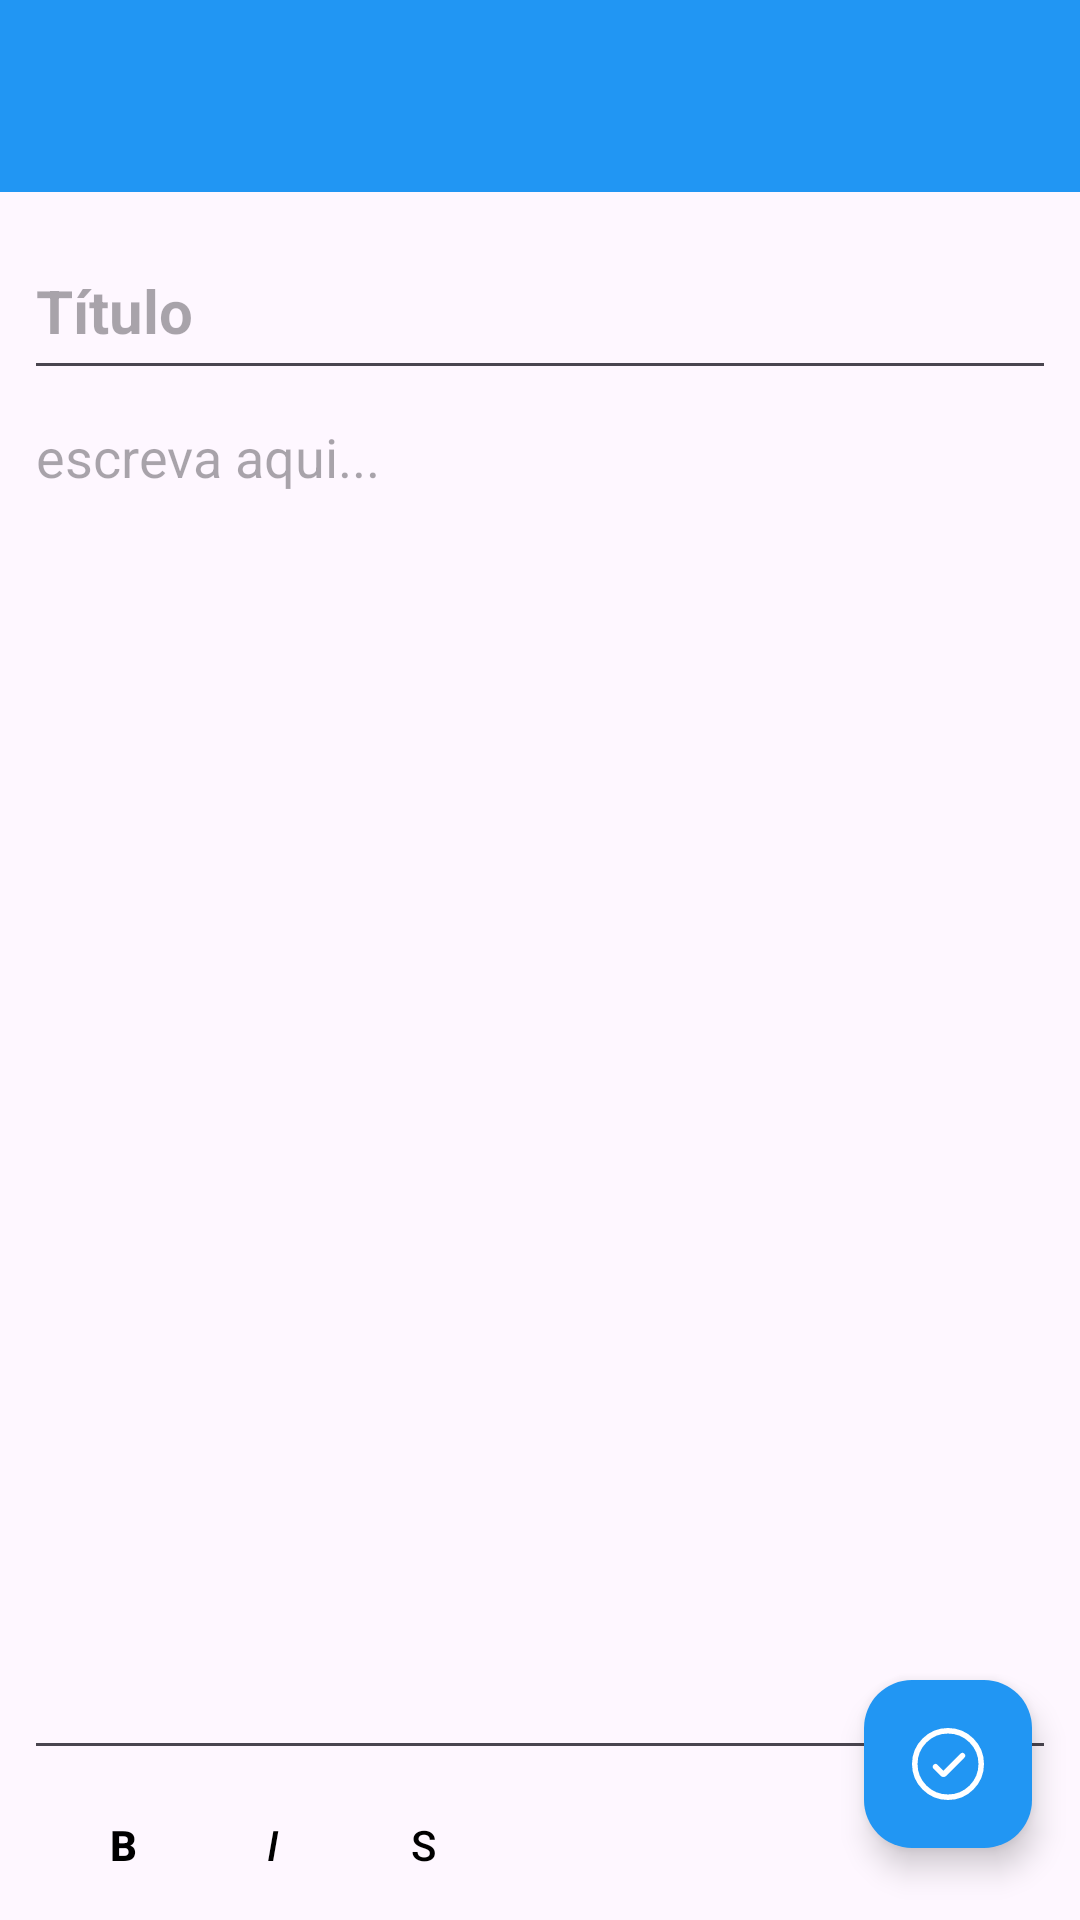

Icon bounding boxes for this 1080×1920 phone screenshot, format Rect(x1, y1, x2, y2):
Button to save task: Rect(864, 1680, 1032, 1848)
